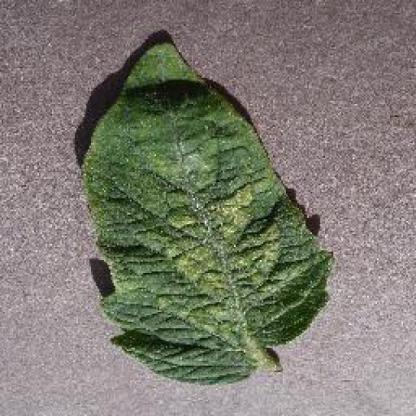Tomato_Spider_Mites: (90, 43, 332, 382)
